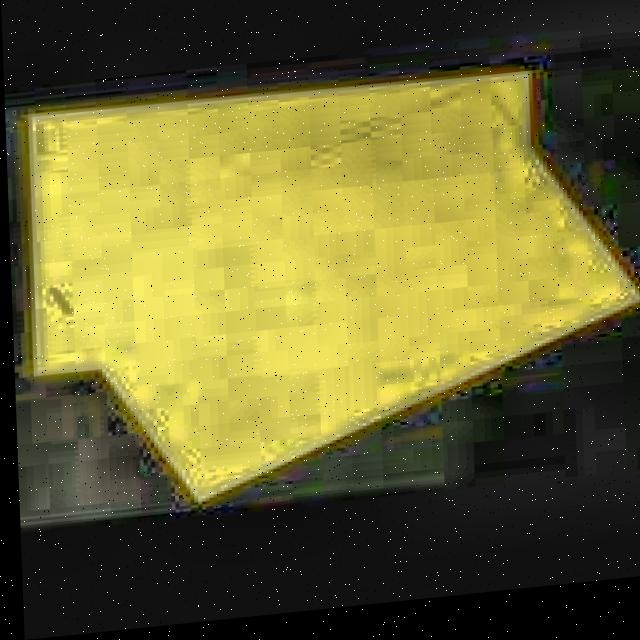cardboard: (12, 34, 640, 515)
